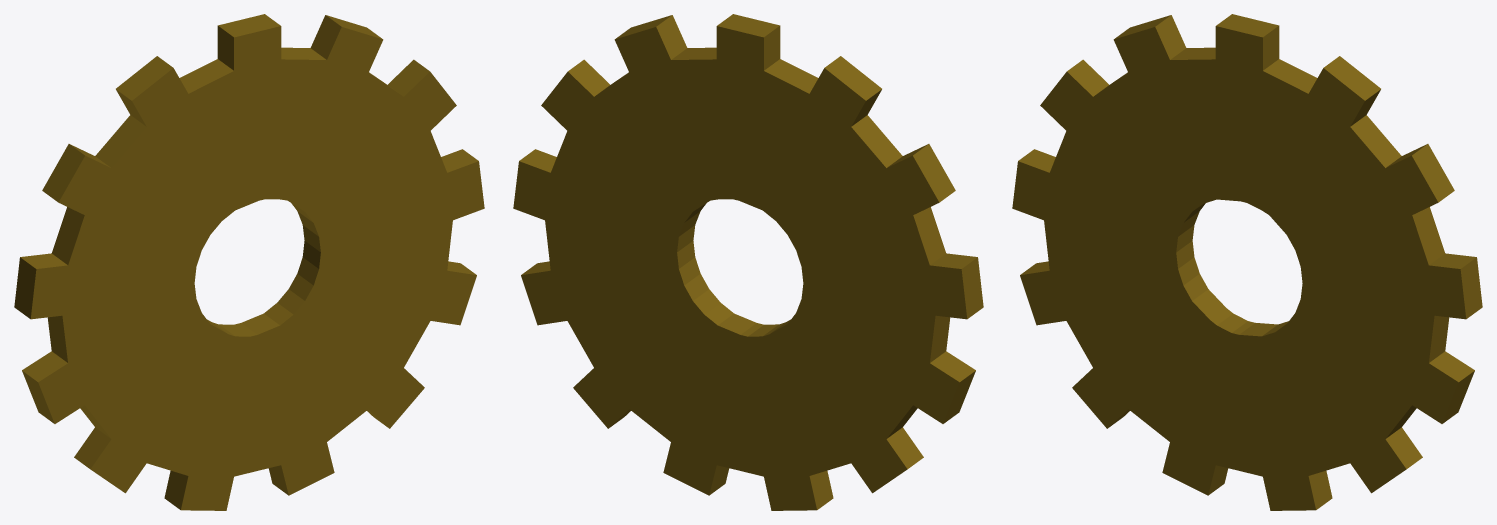
File: haguruma_b2.fbx
3 renders of one model, left to right at view 1: azimuth 30°, elevation 25°; view 2: azimuth 150°, elevation 25°; view 3: azimuth 330°, elevation 25°, orthographic.
Parts seen in each view (by area): view 1: Cylinder001; view 2: Cylinder001; view 3: Cylinder001.
Part boxes in pixels (x1,y1,x2,y2): Cylinder001: [14, 14, 484, 510]; Cylinder001: [513, 14, 983, 510]; Cylinder001: [1012, 14, 1482, 510].
Bounding box in the file's own units: 128 × 127 × 8.
